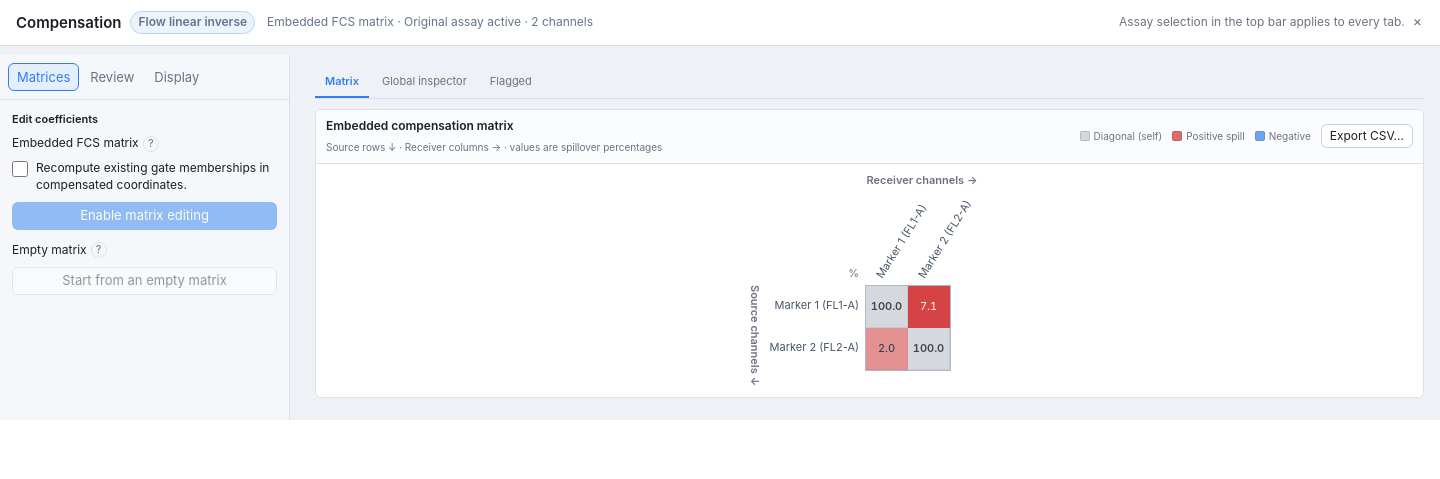
Test: CompensationTab common path › installs the exact embedded FCS matrix as an editable flow baseline
Expected: the button "Enable matrix editing" is disabled, [12,202,277,230]
Step 1. Click the checkbox → coordinates (20, 169), box [12,161,28,177]
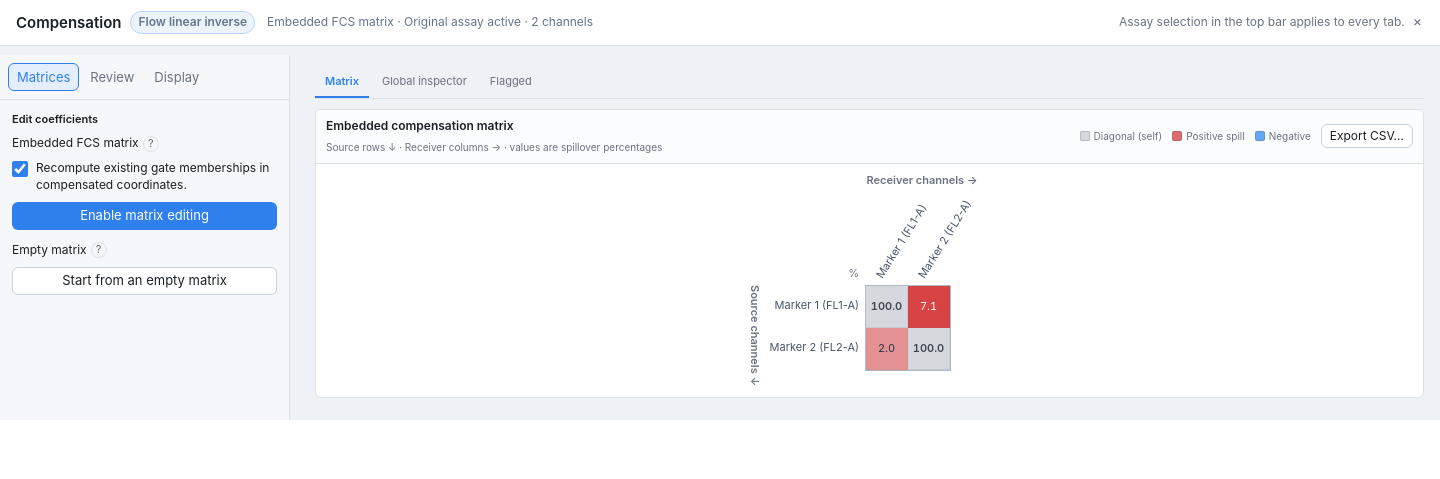
Result: the button "Enable matrix editing" is enabled
Step 2. Click the button "Enable matrix editing" → coordinates (144, 216), box [12,202,277,230]
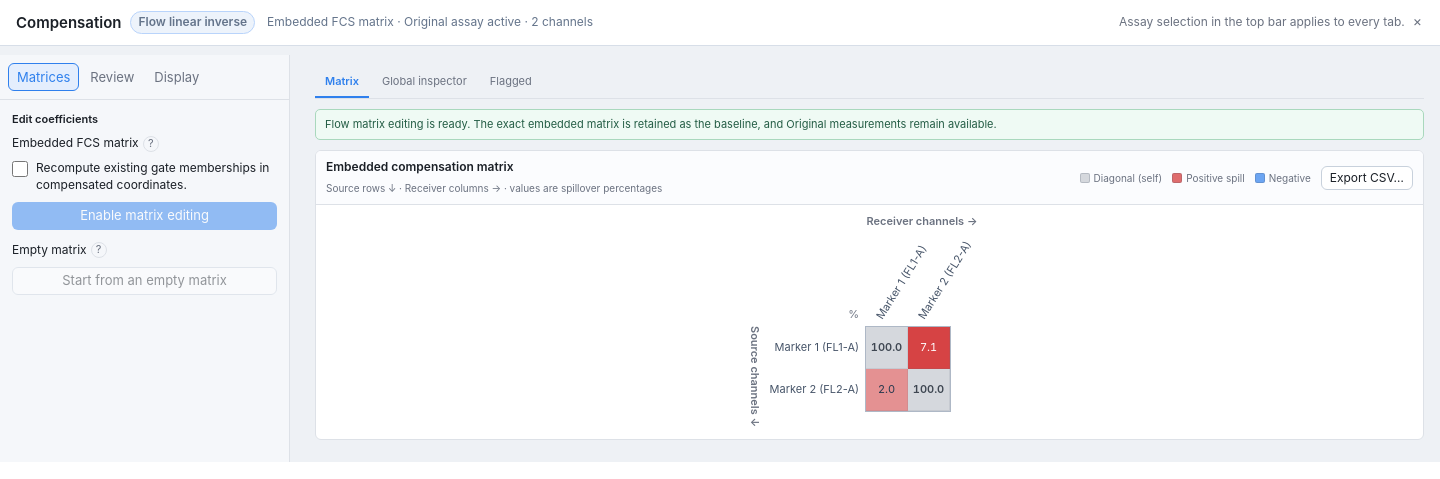
Result: the text "exact embedded matrix is retained as the baseline" is shown at [325,117,997,131]
